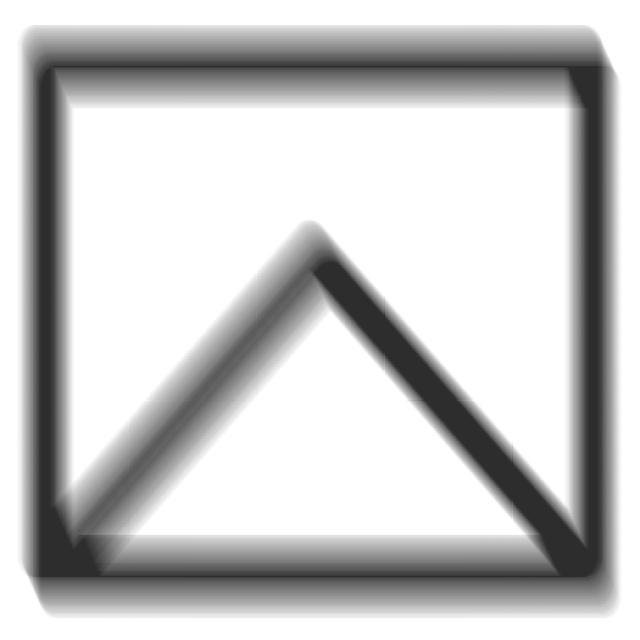letter: (15, 13, 626, 629)
